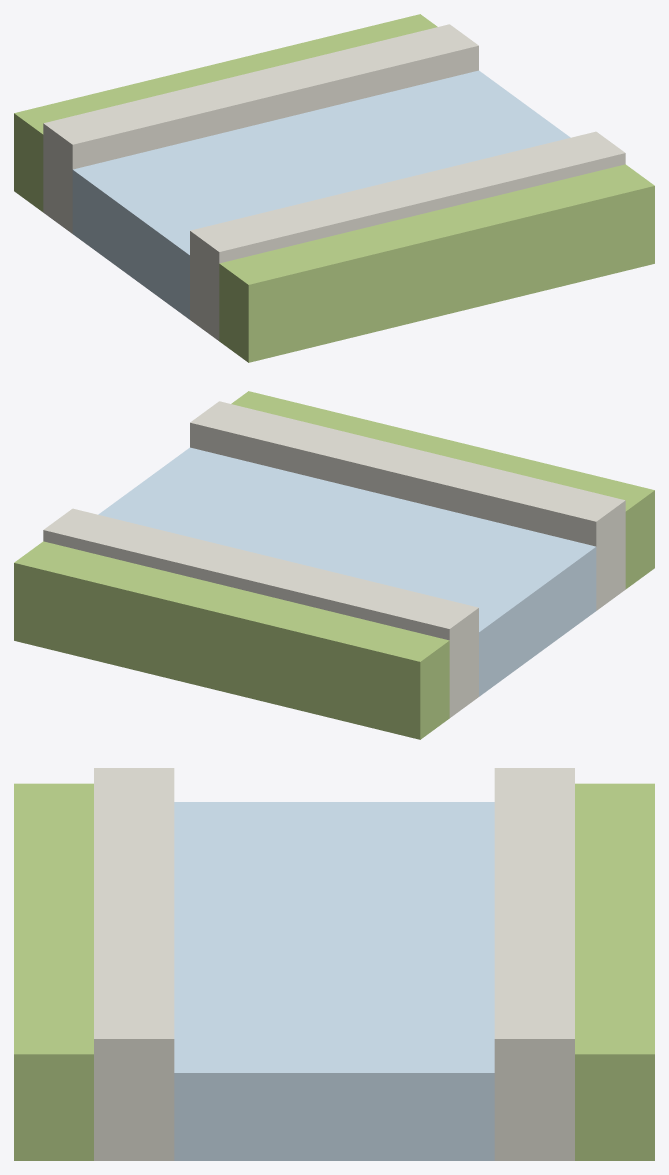
Rendered from roadTile_215.glb.
3 views of the same model, one above another, from view 1: azimuth 30°, elevation 25°; view 2: azimuth 150°, elevation 25°; view 3: azimuth 270°, elevation 25° (orthographic). The views are drawn at different scales.
Visible parts, largest first — view 1: roadTile_215; view 2: roadTile_215; view 3: roadTile_215.
Boxes of the visible parts, box(x1,y1,x2,y2) form: roadTile_215: box(14, 14, 654, 362); roadTile_215: box(14, 391, 654, 739); roadTile_215: box(14, 768, 654, 1160).
Size of the model in its own units: 3 by 0.63 by 3.
